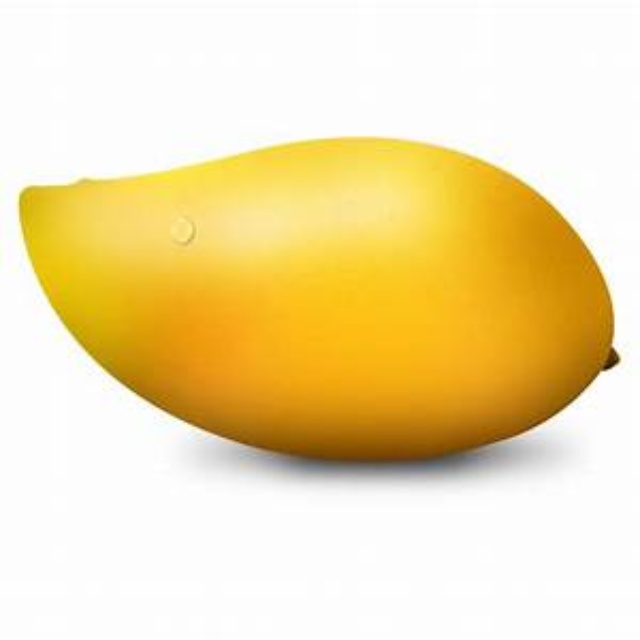mango: (18, 135, 622, 467)
